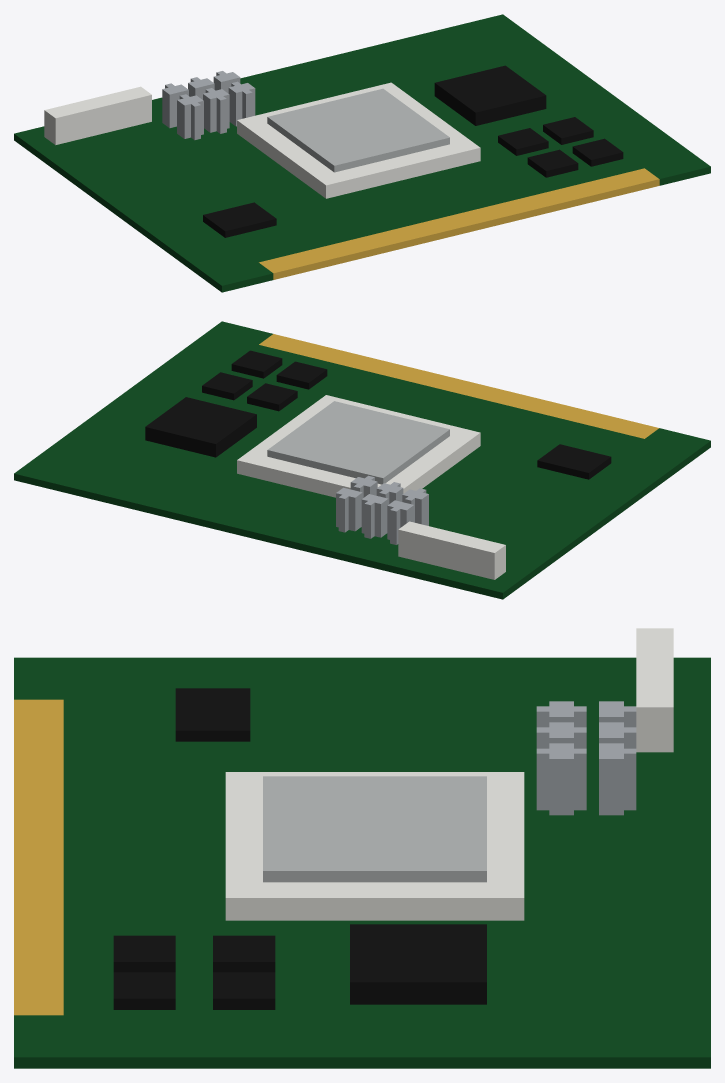
The model's file is processor.glb.
3 renders of one model, top to bottom at view 1: azimuth 30°, elevation 25°; view 2: azimuth 150°, elevation 25°; view 3: azimuth 270°, elevation 25°, orthographic. The views are drawn at different scales.
Visible parts, largest first — view 1: processor:compound; view 2: processor:compound; view 3: processor:compound.
Part boxes in pixels (x1,y1,x2,y2): processor:compound: (14, 14, 710, 292); processor:compound: (14, 321, 710, 599); processor:compound: (14, 628, 710, 1068).
Size of the model in its own units: 0.152 by 0.012 by 0.112.
